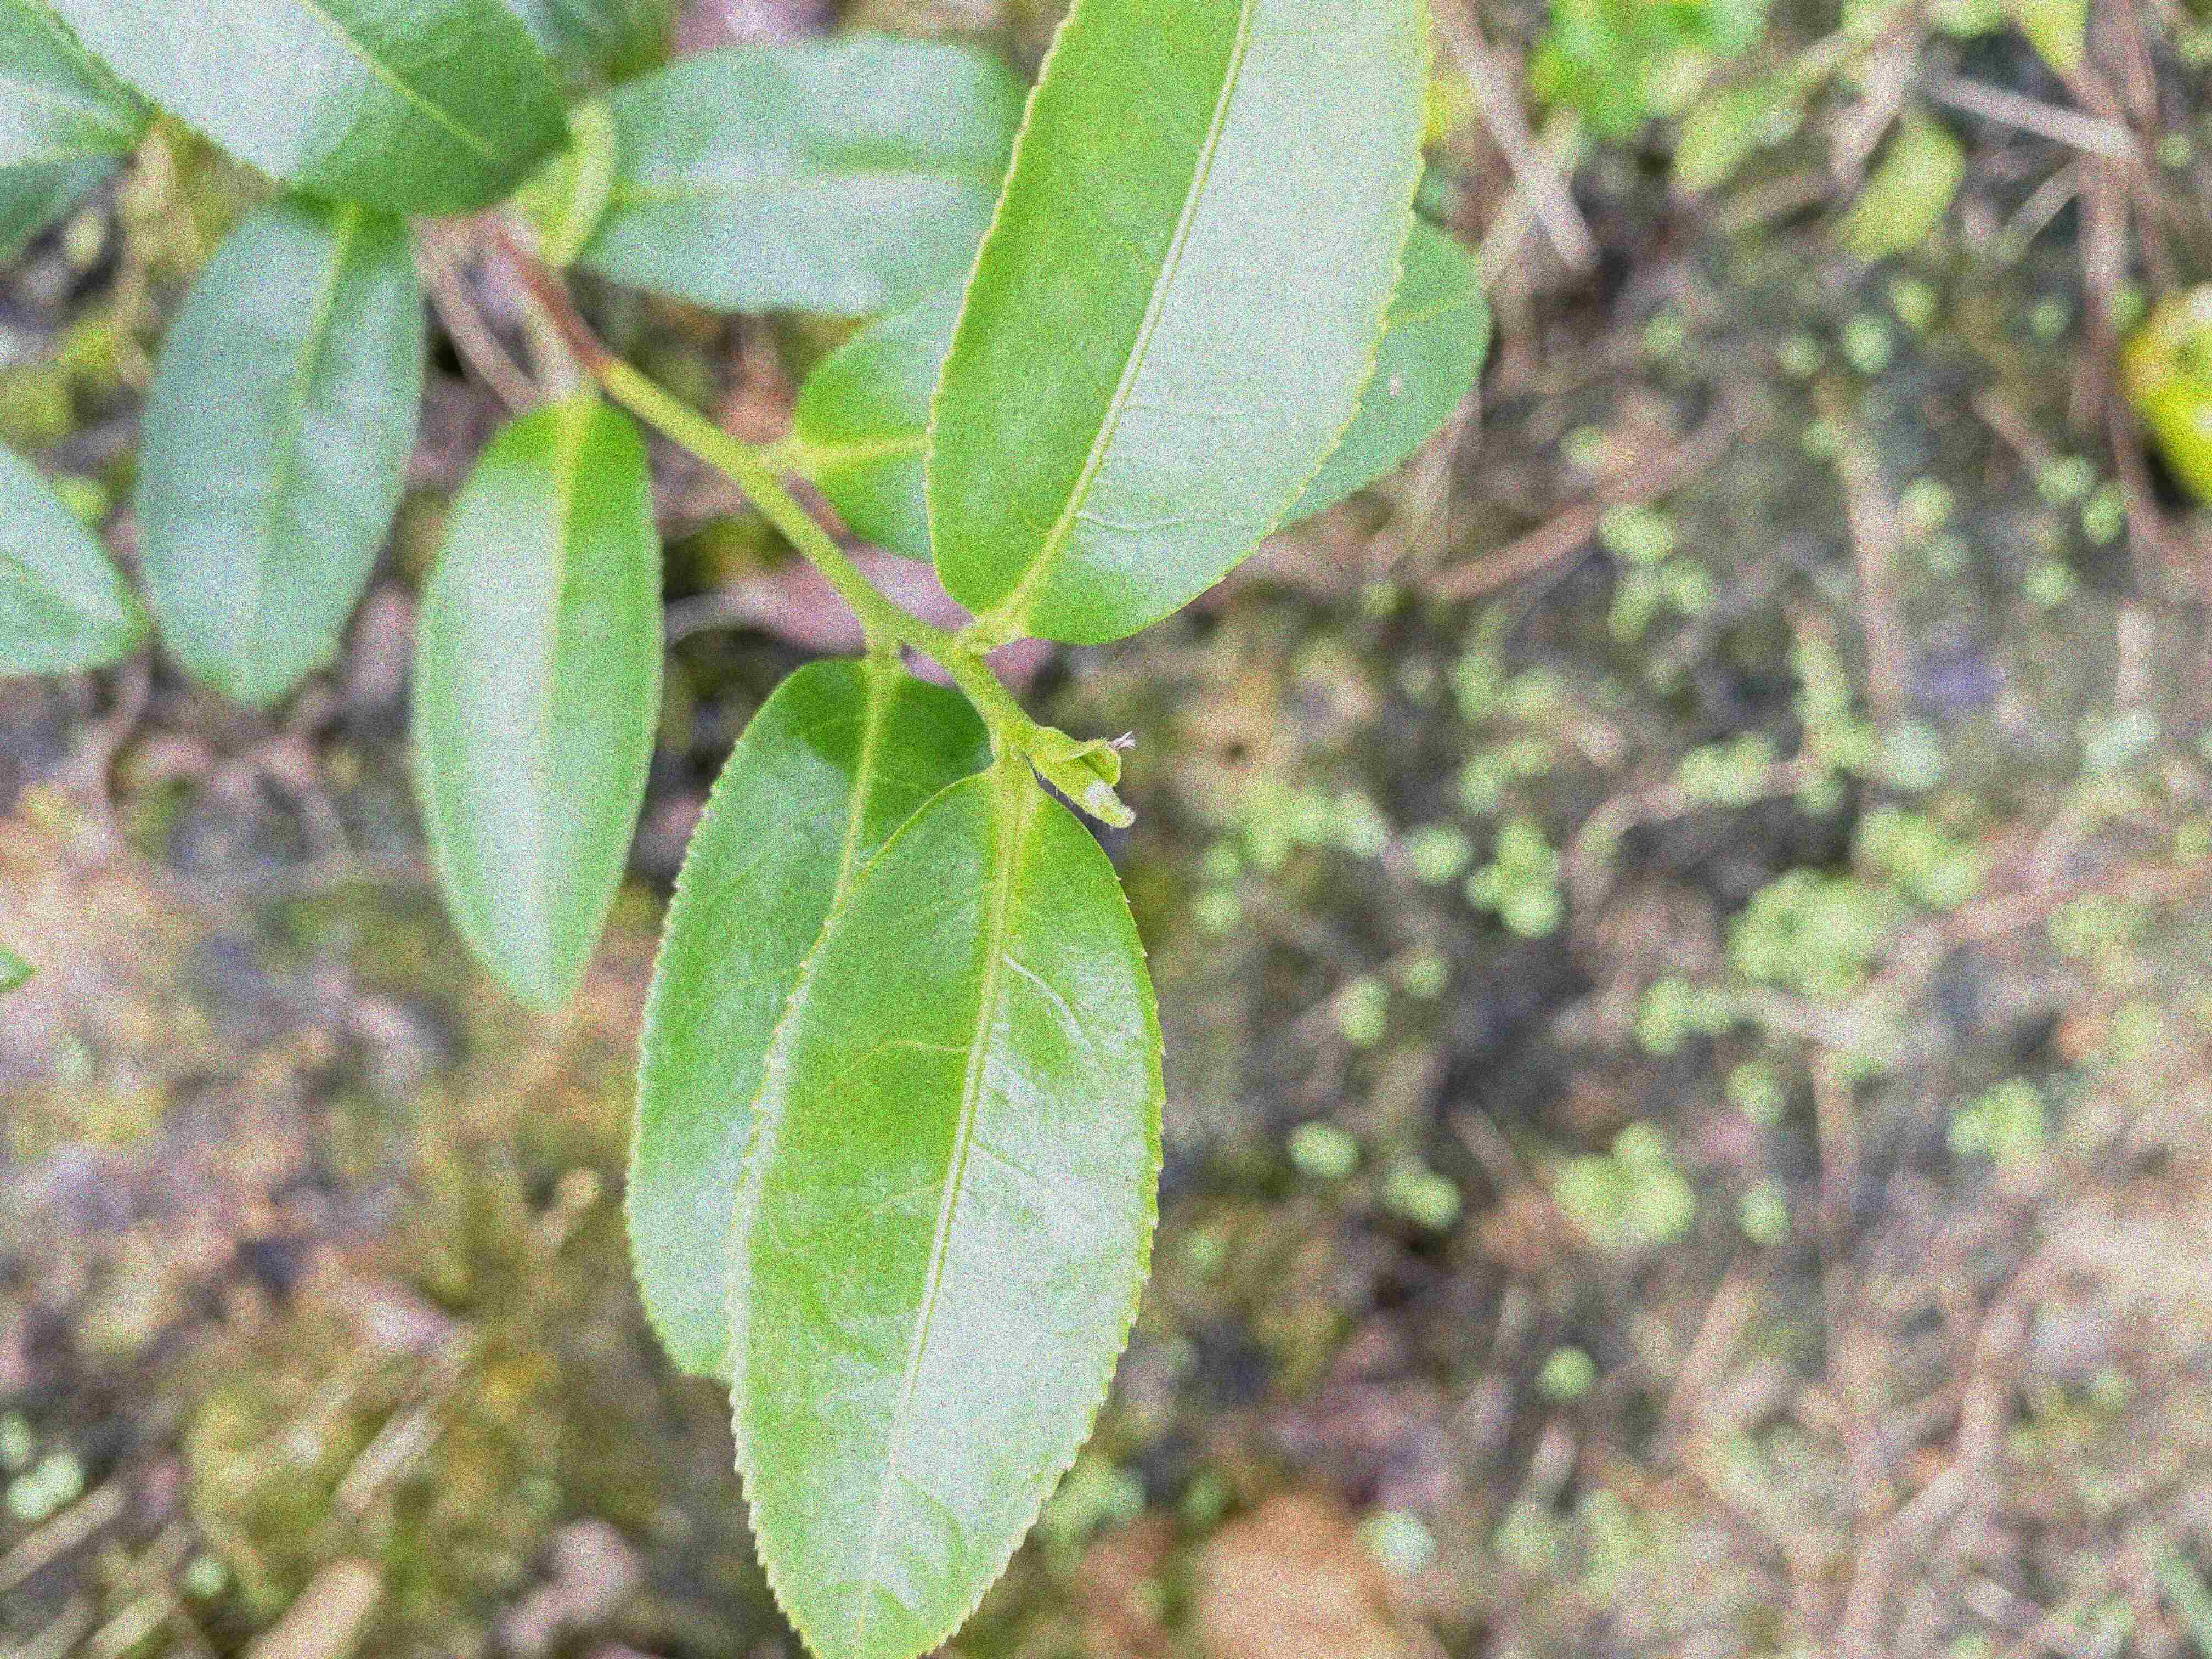healthy: (725, 779, 1169, 1657), (925, 0, 1435, 647)
